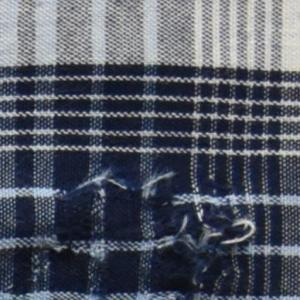Damage: (1, 157, 260, 300)
